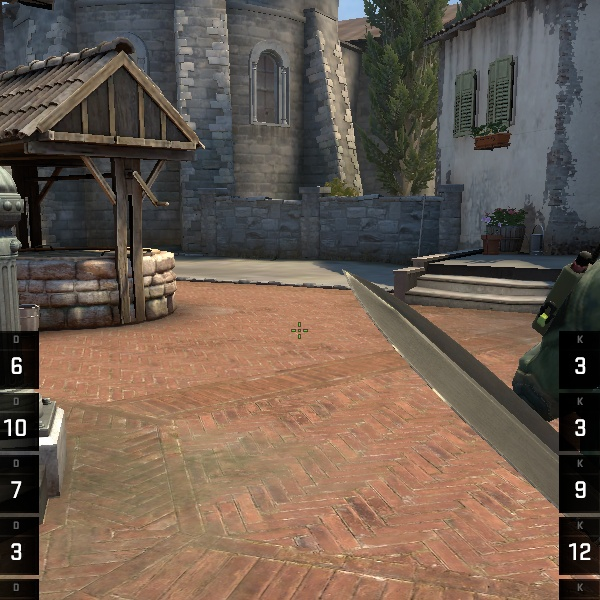ct_head: (562, 245, 598, 284)
